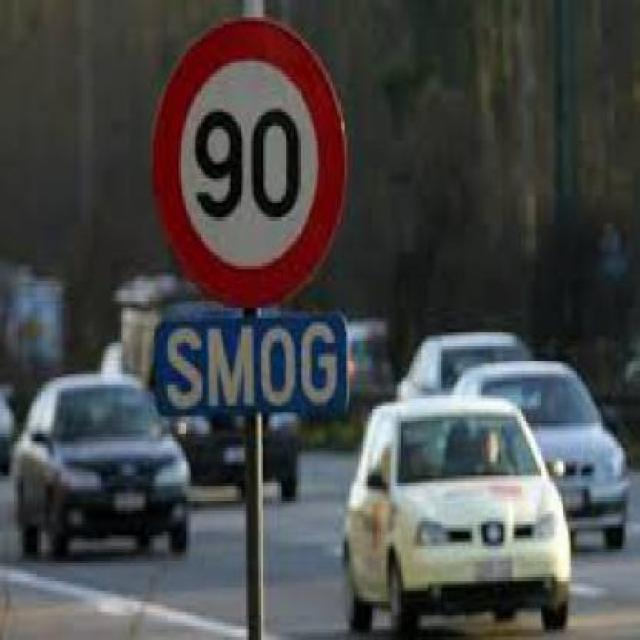speed limit 90: (150, 14, 350, 307)
